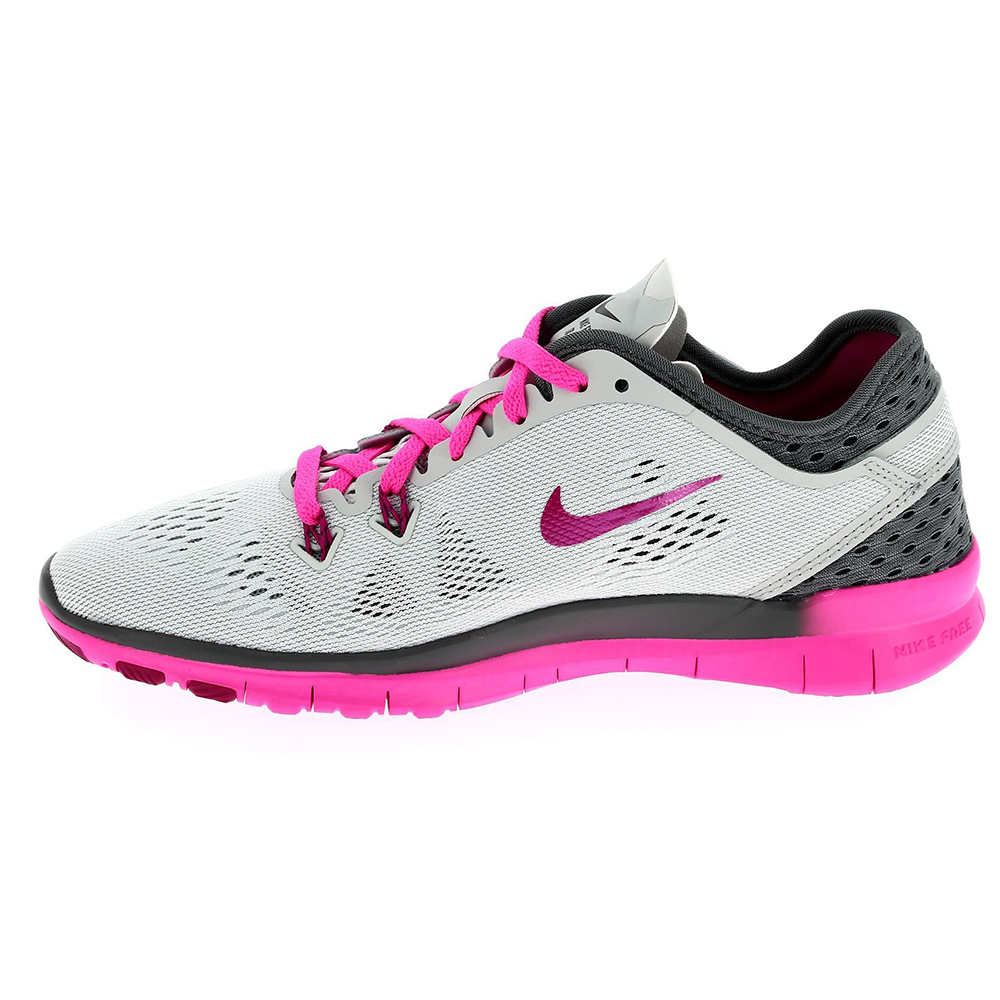Nike: (531, 471, 736, 551)
